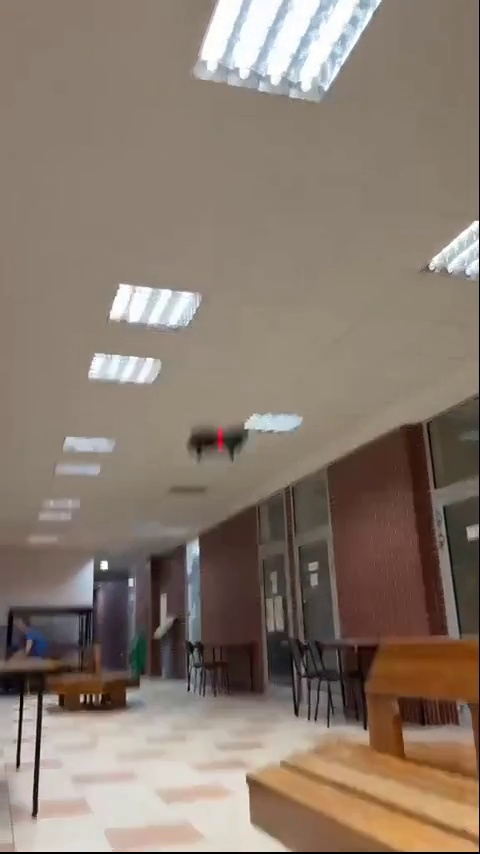drone: (181, 427, 251, 456)
no vest: (10, 618, 50, 663)
